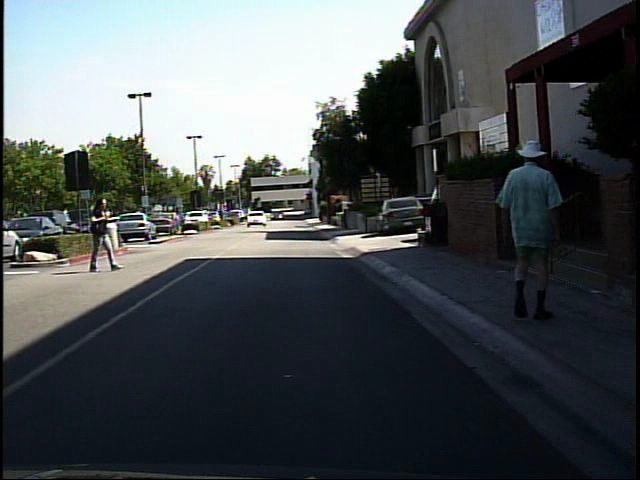person: (487, 127, 583, 327), (83, 193, 121, 276)
